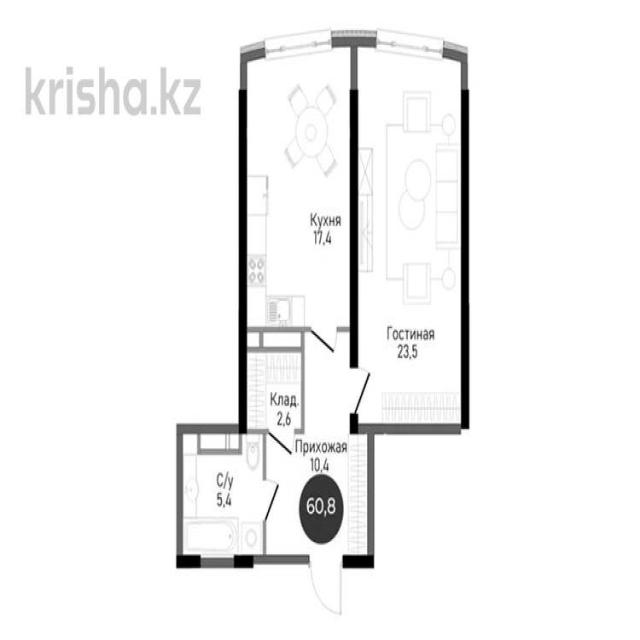bathroom: (182, 430, 266, 560)
hallway: (271, 433, 372, 561)
kitchen: (242, 51, 351, 329)
living_room: (356, 35, 465, 427)
other: (244, 338, 302, 426)
